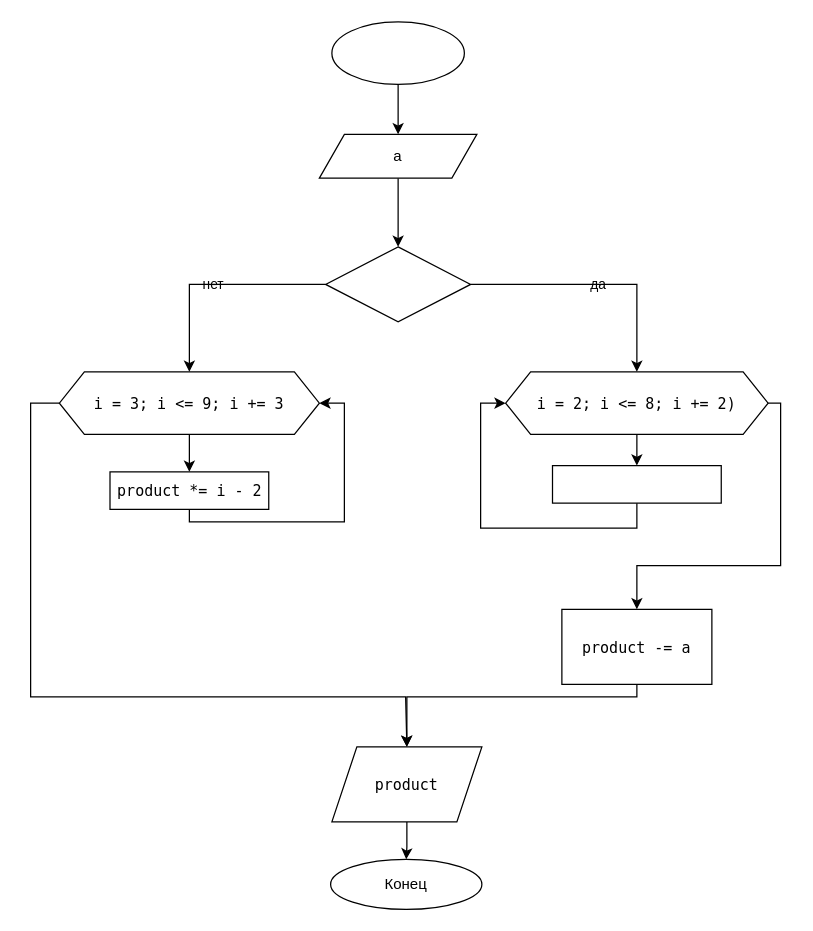
This 813x931 diagram has some shape labels left out. The shapes that lost their labels are listed below. From the top down, each one's centre as x and y in pixels, then its label:
At point 397,52: "Начало".
At point 397,284: "a >= 0".
At point 636,483: "product *= i * i".
